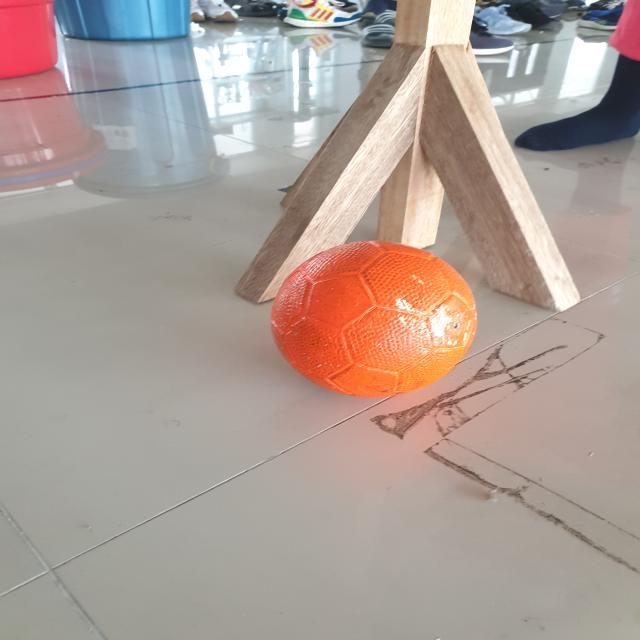bola: (262, 231, 484, 406)
